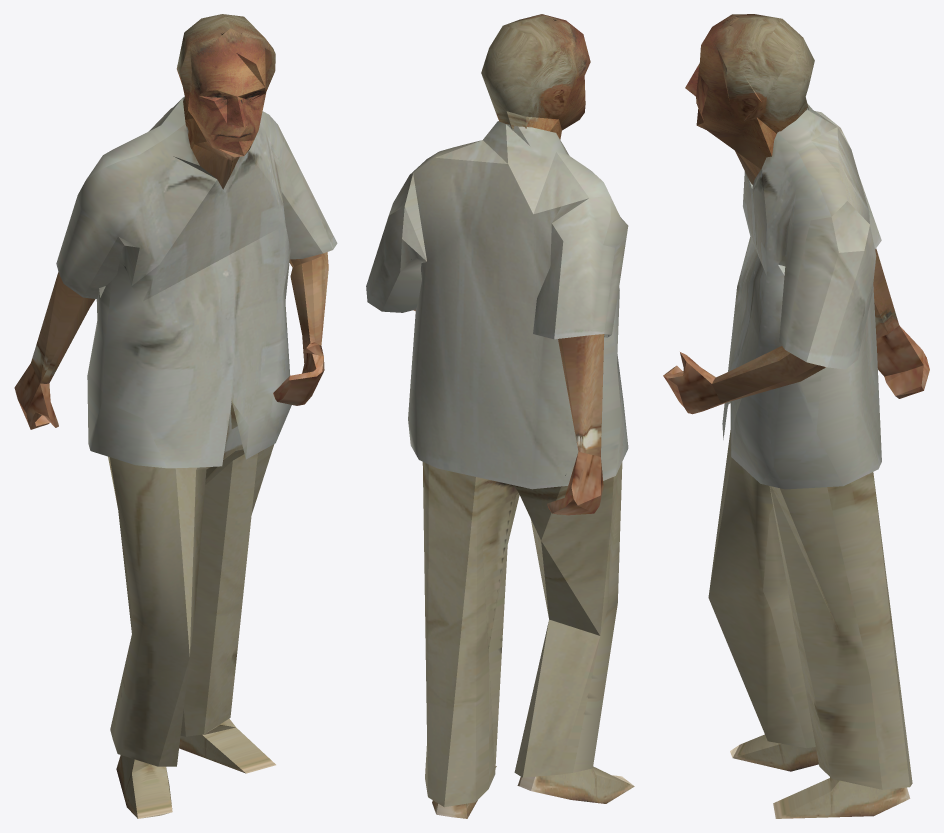
3 views of the same model, side by side, from view 1: azimuth 30°, elevation 25°; view 2: azimuth 150°, elevation 25°; view 3: azimuth 270°, elevation 25° (orthographic). The views are drawn at different scales.
Parts seen in each view (by area): view 1: glbxzcom60181; view 2: glbxzcom60181; view 3: glbxzcom60181.
Part boxes in pixels (x1=…): glbxzcom60181: x1=14, y1=14, x2=337, y2=818; glbxzcom60181: x1=366, y1=14, x2=634, y2=818; glbxzcom60181: x1=663, y1=14, x2=929, y2=818.
Size of the model in its own units: 0.6865 by 1.88 by 0.5822.
1 material, 1 textured.
